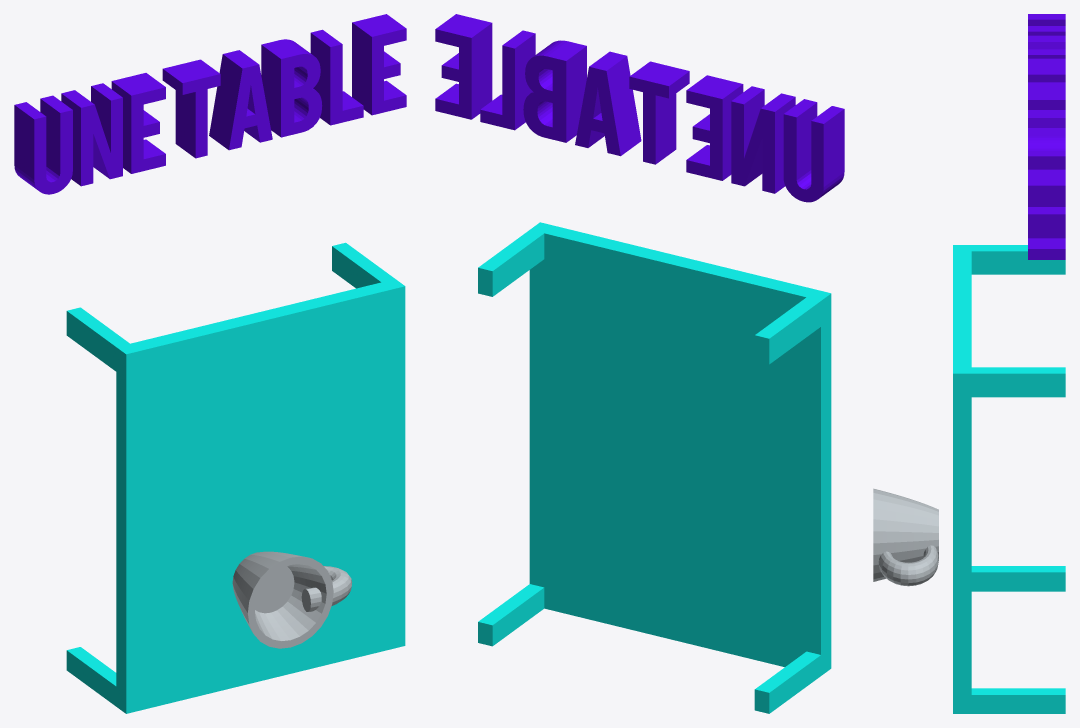
File: tinker.obj
The picture shows the model from 3 angles, left to right: view 1: azimuth 30°, elevation 25°; view 2: azimuth 150°, elevation 25°; view 3: azimuth 270°, elevation 25°; orthographic projection. The views are drawn at different scales.
Visible parts, largest first — view 1: group_0_589815, group_0_6684927, group_0_12568524; view 2: group_0_589815, group_0_6684927; view 3: group_0_589815, group_0_6684927, group_0_12568524.
Part boxes in pixels (x1,y1,x2,y2): group_0_589815: (66, 242, 405, 713); group_0_6684927: (14, 14, 406, 194); group_0_12568524: (232, 551, 352, 648); group_0_589815: (478, 222, 831, 713); group_0_6684927: (435, 14, 844, 202); group_0_589815: (953, 245, 1065, 713); group_0_6684927: (1028, 14, 1065, 259); group_0_12568524: (873, 488, 938, 586).
Bounding box in the file's own units: 86.65 × 129 × 41.
